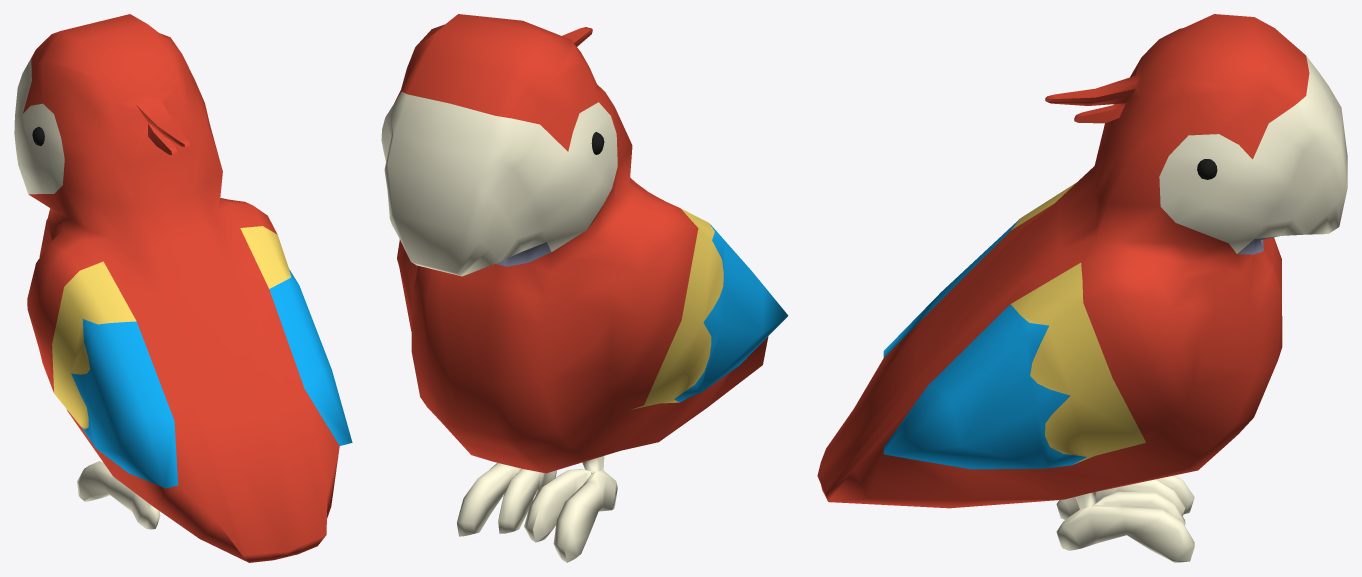
File: Parrot_Textured.fbx
The picture shows the model from 3 angles, left to right: view 1: azimuth 30°, elevation 25°; view 2: azimuth 150°, elevation 25°; view 3: azimuth 270°, elevation 25°; orthographic projection. The views are drawn at different scales.
Visible parts, largest first — view 1: Parrot; view 2: Parrot; view 3: Parrot.
Boxes of the visible parts, x1,y1,x2,y2 form: Parrot: (14,14,352,562); Parrot: (381,14,788,562); Parrot: (817,14,1347,562).
Bounding box in the file's own units: 62.94 × 123 × 117.
